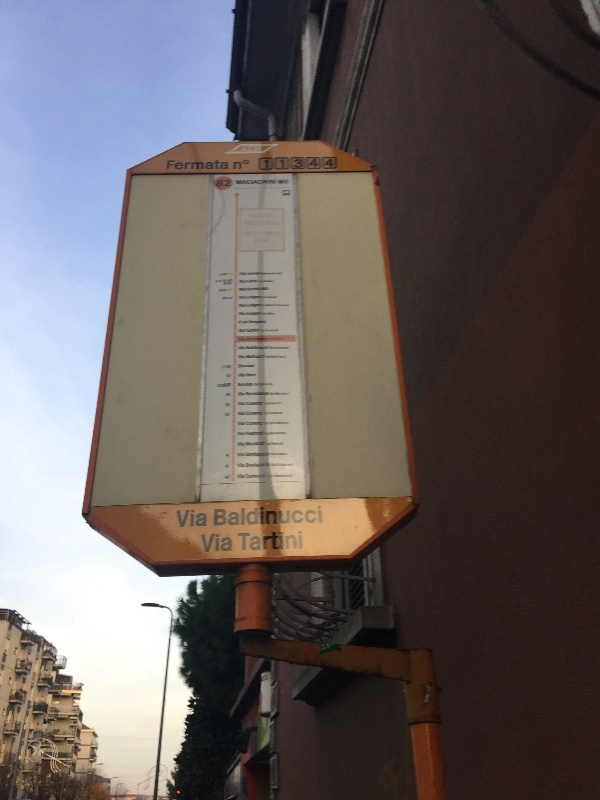text: (241, 346, 256, 478), (257, 346, 272, 478), (273, 346, 288, 478), (241, 272, 256, 334), (257, 272, 272, 334), (273, 272, 288, 334), (289, 346, 294, 478), (257, 211, 272, 245), (245, 211, 256, 245), (305, 505, 321, 528), (226, 453, 240, 479), (217, 366, 224, 418), (225, 366, 232, 418), (225, 505, 240, 528), (241, 505, 256, 528), (257, 505, 272, 528), (273, 505, 288, 528), (289, 505, 304, 528), (241, 531, 256, 552), (257, 531, 272, 552), (273, 531, 288, 552), (289, 531, 303, 552), (177, 510, 192, 529), (273, 211, 281, 245), (209, 534, 224, 552), (193, 510, 207, 529), (238, 346, 240, 478), (215, 273, 224, 301), (225, 273, 234, 301), (289, 272, 293, 334), (215, 505, 224, 528), (177, 160, 192, 171), (193, 160, 208, 171), (209, 160, 224, 171), (225, 534, 233, 552), (201, 534, 208, 552), (273, 160, 288, 168), (289, 160, 304, 168), (305, 160, 320, 168), (321, 160, 334, 168), (167, 160, 176, 171), (241, 180, 256, 186), (257, 180, 272, 186), (273, 180, 288, 186), (217, 178, 224, 188), (241, 160, 249, 168), (265, 160, 272, 168), (225, 178, 230, 188), (234, 160, 240, 168), (238, 531, 240, 552), (225, 160, 228, 171), (236, 180, 240, 186)
